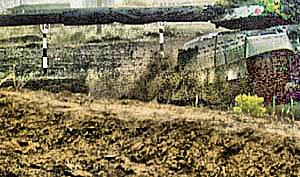tanks: (178, 26, 300, 102)
